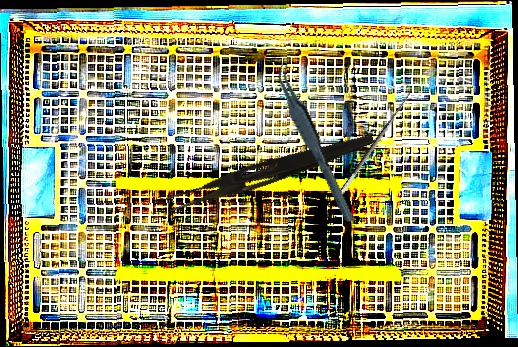Dressing Forceps: (165, 122, 376, 221)
Hook Surgical: (324, 80, 419, 204)
Tissue Forceps: (272, 54, 356, 230)
